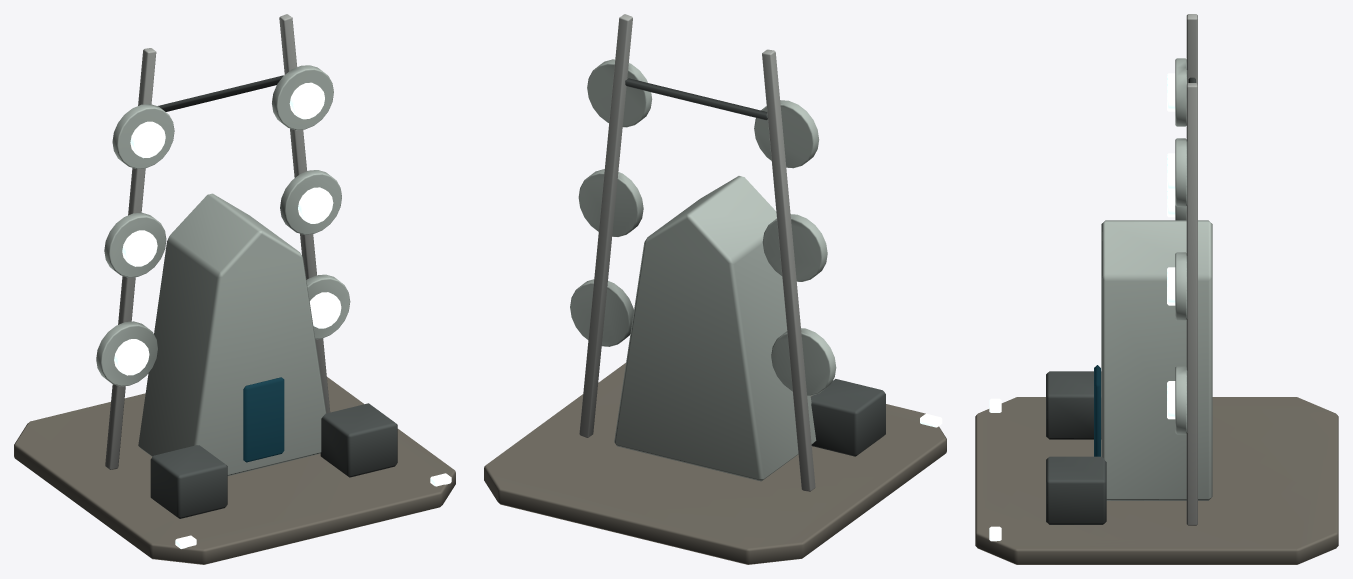
Rendered from veilrelay.glb.
3 renders of one model, left to right at view 1: azimuth 30°, elevation 25°; view 2: azimuth 150°, elevation 25°; view 3: azimuth 270°, elevation 25°, orthographic. The views are drawn at different scales.
Parts seen in each view (by area): view 1: Narrow_housing, Platform.003, Lens_discs, Instrument_cases, Lens_lights, Tall_masts, Entrance, Cross_mast; view 2: Narrow_housing, Platform.003, Lens_discs, Tall_masts, Instrument_cases, Cross_mast; view 3: Platform.003, Narrow_housing, Instrument_cases, Tall_masts, Lens_discs, Lens_lights, Entrance.
Part boxes in pixels (x1,y1,x2,y2): Narrow_housing: (138, 193, 326, 476); Platform.003: (14, 377, 455, 564); Lens_discs: (96, 65, 350, 386); Instrument_cases: (150, 403, 397, 518); Lens_lights: (114, 82, 341, 375); Tall_masts: (105, 14, 330, 469); Entrance: (243, 377, 284, 462); Cross_mast: (158, 75, 283, 111); Narrow_housing: (614, 176, 816, 481); Platform.003: (484, 363, 946, 564); Lens_discs: (570, 59, 836, 395); Tall_masts: (579, 14, 815, 491); Instrument_cases: (810, 379, 885, 456); Cross_mast: (625, 78, 767, 120); Platform.003: (975, 397, 1338, 564); Narrow_housing: (1101, 220, 1212, 500); Instrument_cases: (1046, 371, 1106, 524); Tall_masts: (1186, 14, 1197, 525); Lens_discs: (1175, 58, 1187, 434); Lens_lights: (1167, 73, 1175, 419); Entrance: (1094, 365, 1100, 456).
Bounding box in the file's own units: 3.6 × 4.8 × 3.6.
